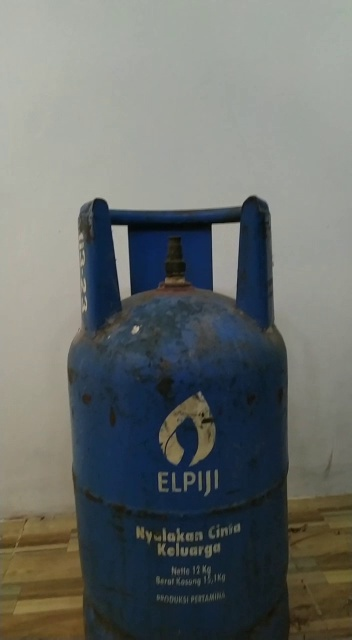blue_gas: (66, 194, 286, 640)
